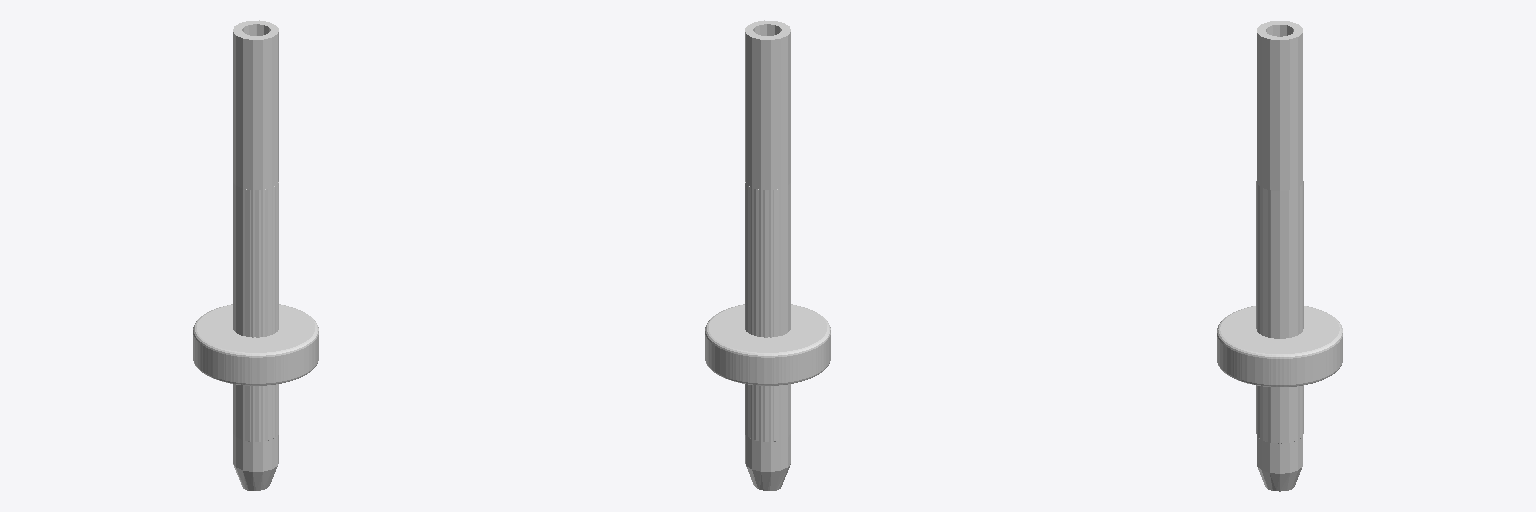
URDF robot description (Industry_gyu_arm_20260809_ppap):
<?xml version="1.0" encoding="utf-8"?>
<!-- This URDF was automatically created by SolidWorks to URDF Exporter! Originally created by Stephen Brawner (brawner@gmail.com) 
     Commit Version: 1.6.0-4-g7f85cfe  Build Version: 1.6.7995.38578
     For more information, please see http://wiki.ros.org/sw_urdf_exporter -->
<robot
  name="Industry_gyu_arm_20260809_ppap">
  <link
    name="ppap_base">
    <inertial>
      <origin
        xyz="-5.88521597651437E-05 3.40112024654893E-09 0.011290767815234"
        rpy="0 0 0" />
      <mass
        value="0.0194056860552669" />
      <inertia
        ixx="2.17982855746356E-05"
        ixy="-1.30515978849965E-13"
        ixz="1.16563658974287E-08"
        iyy="2.17980346778239E-05"
        iyz="3.03029544486757E-12"
        izz="1.75478969240021E-06" />
    </inertial>
    <visual>
      <origin
        xyz="0 0 0"
        rpy="0 0 0" />
      <geometry>
        <mesh
          filename="package://Industry_gyu_arm_20260809_ppap/meshes/ppap_base.STL" />
      </geometry>
      <material
        name="">
        <color
          rgba="0.894117647058823 0.894117647058823 0.894117647058823 1" />
      </material>
    </visual>
    <collision>
      <origin
        xyz="0 0 0"
        rpy="0 0 0" />
      <geometry>
        <mesh
          filename="package://Industry_gyu_arm_20260809_ppap/meshes/ppap_base.STL" />
      </geometry>
    </collision>
  </link>
  <link
    name="ppap_l1">
    <inertial>
      <origin
        xyz="-5.88521597651437E-05 3.40112024654893E-09 0.011290767815234"
        rpy="0 0 0" />
      <mass
        value="0.0194056860552669" />
      <inertia
        ixx="2.17982855746356E-05"
        ixy="-1.30515978849965E-13"
        ixz="1.16563658974287E-08"
        iyy="2.17980346778239E-05"
        iyz="3.03029544486674E-12"
        izz="1.75478969240021E-06" />
    </inertial>
    <visual>
      <origin
        xyz="0 0 0"
        rpy="0 0 0" />
      <geometry>
        <mesh
          filename="package://Industry_gyu_arm_20260809_ppap/meshes/ppap_l1.STL" />
      </geometry>
      <material
        name="">
        <color
          rgba="0.894117647058823 0.894117647058823 0.894117647058823 1" />
      </material>
    </visual>
    <collision>
      <origin
        xyz="0 0 0"
        rpy="0 0 0" />
      <geometry>
        <mesh
          filename="package://Industry_gyu_arm_20260809_ppap/meshes/ppap_l1.STL" />
      </geometry>
    </collision>
  </link>
  <joint
    name="ppap_j1"
    type="fixed">
    <origin
      xyz="0 0 0"
      rpy="0 0 0" />
    <parent
      link="ppap_base" />
    <child
      link="ppap_l1" />
    <axis
      xyz="0 0 0" />
  </joint>
</robot>

--- Render facts (derived) ---
Views: 3 orthographic renders of the robot side by side, from view 1: azimuth 30°, elevation 25°; view 2: azimuth 150°, elevation 25°; view 3: azimuth 270°, elevation 25°.
Model Industry_gyu_arm_20260809_ppap with 2 links and 1 joints (1 fixed), rooted at ppap_base, posed every joint at zero.
Links seen in each view (by area): view 1: ppap_base, ppap_l1; view 2: ppap_base, ppap_l1; view 3: ppap_l1, ppap_base.
Link boxes in pixels (x1,y1,x2,y2): ppap_base: [193, 20, 318, 490]; ppap_l1: [193, 182, 318, 441]; ppap_base: [705, 20, 830, 490]; ppap_l1: [705, 182, 830, 441]; ppap_l1: [1217, 181, 1342, 443]; ppap_base: [1217, 21, 1342, 491].
Bounding box of the posed robot: 0.035 × 0.035 × 0.1395 m (x, y, z).
Meshes: 2 distinct files referenced, 2 mesh visuals loaded (2 binary STL).
